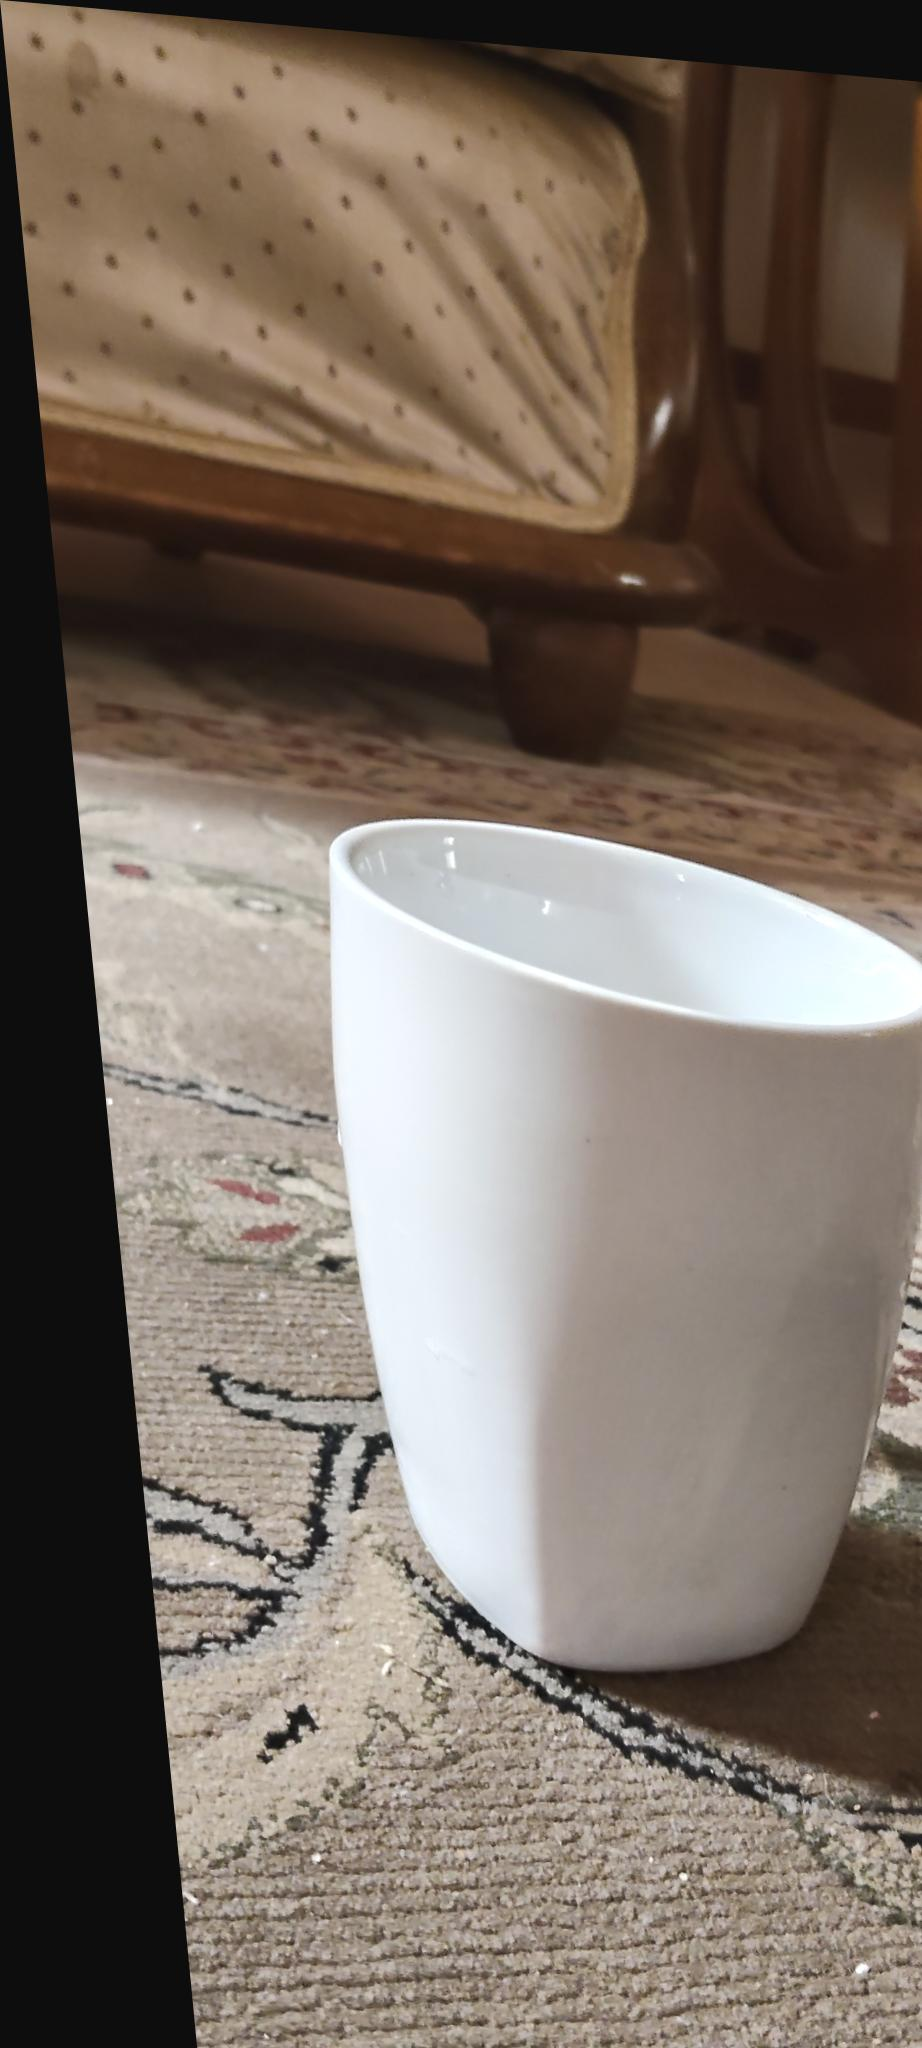Mug: (315, 804, 922, 1708)
